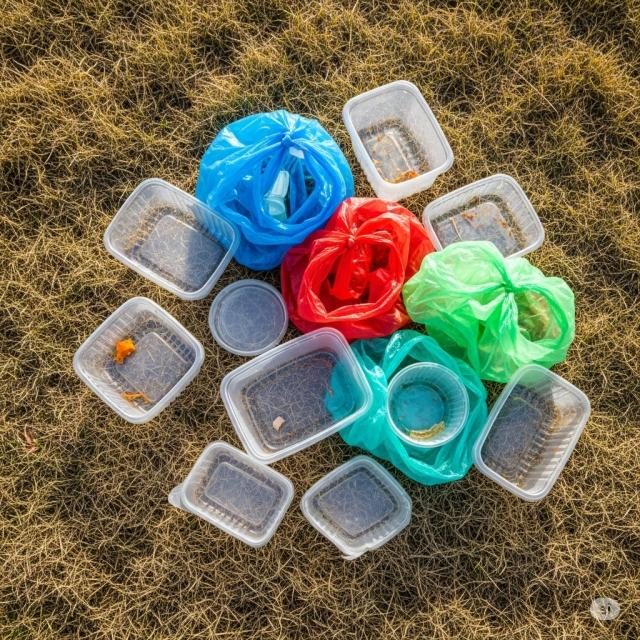plastic: (218, 324, 377, 468), (468, 359, 596, 507), (72, 294, 206, 428), (103, 177, 243, 301), (342, 78, 457, 202), (179, 440, 298, 548), (298, 454, 415, 560), (381, 360, 474, 448)
